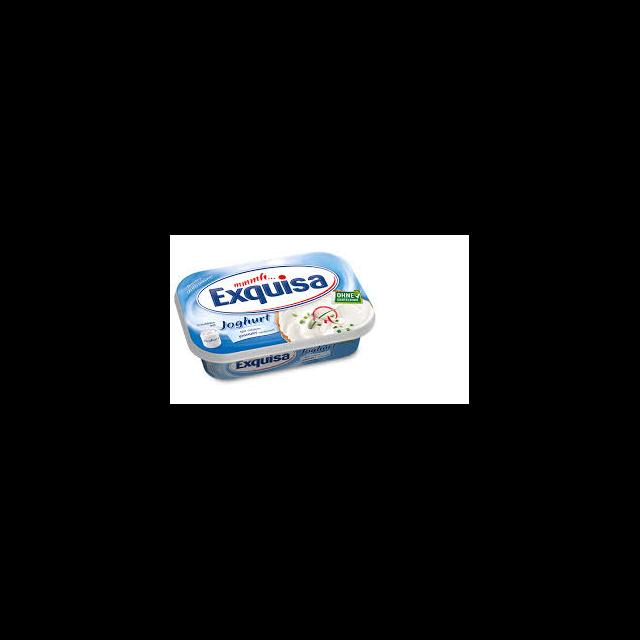plastic: (174, 252, 374, 380), (173, 252, 374, 364)
